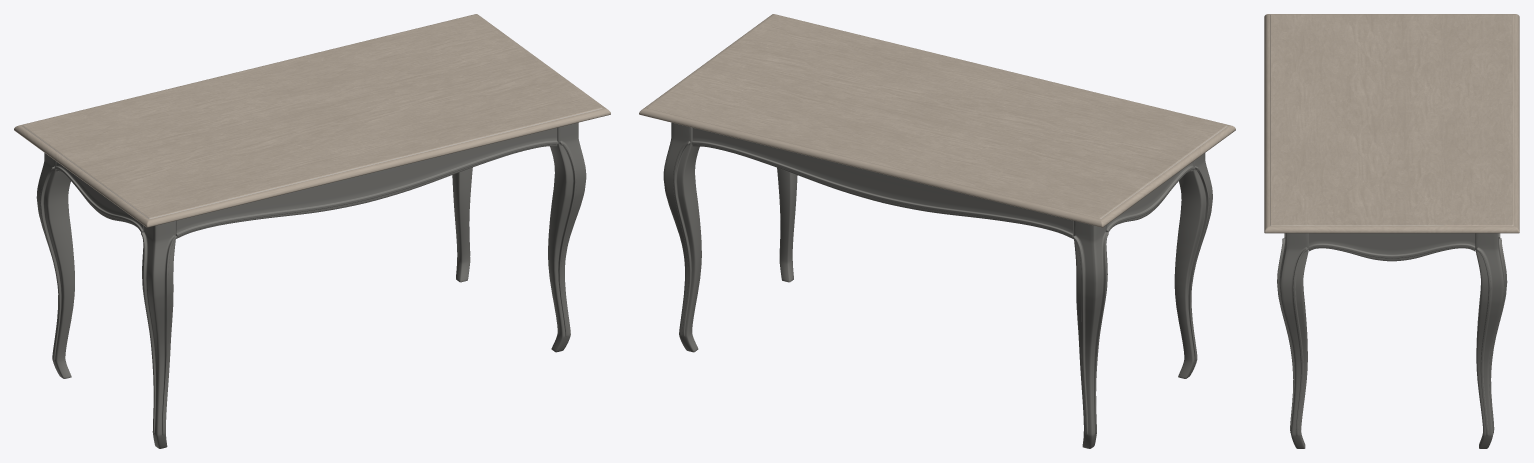
The model's file is table3.glb.
3 renders of one model, left to right at view 1: azimuth 30°, elevation 25°; view 2: azimuth 150°, elevation 25°; view 3: azimuth 270°, elevation 25°, orthographic. The views are drawn at different scales.
Parts seen in each view (by area): view 1: Cube.001; view 2: Cube.001; view 3: Cube.001.
Part boxes in pixels (bbox=[...]): Cube.001: bbox=[14, 14, 610, 448]; Cube.001: bbox=[639, 14, 1235, 448]; Cube.001: bbox=[1264, 14, 1519, 448].
Size of the model in its own units: 1.59 by 0.8095 by 0.7944.
Materials: 1 (1 with a texture image).
